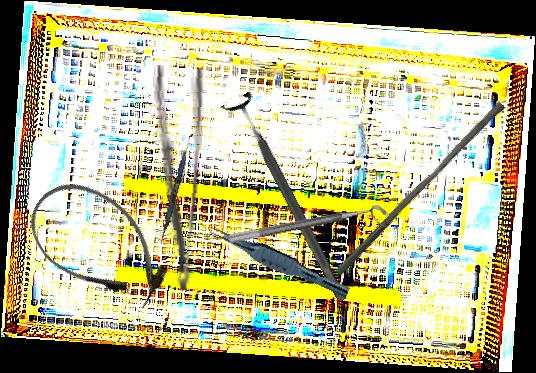Cannula: (13, 164, 185, 325)
Dressing Forceps: (138, 64, 208, 291)
Fixation Ring: (219, 90, 359, 309), (227, 202, 391, 258)
Pusher: (335, 95, 506, 283)
Spatula Surgical: (158, 132, 194, 245)
Tissue Forceps: (205, 222, 354, 299)
